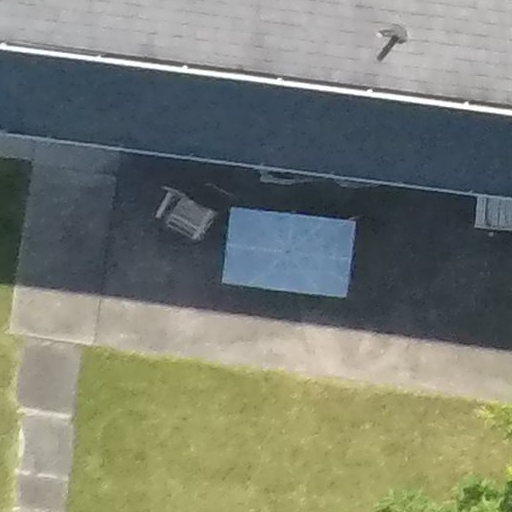table: (216, 193, 374, 326)
